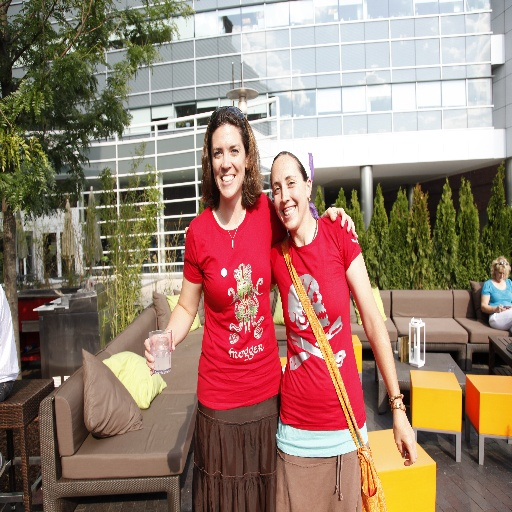hand: (397, 395, 424, 477), (142, 332, 175, 377), (495, 304, 506, 313)
